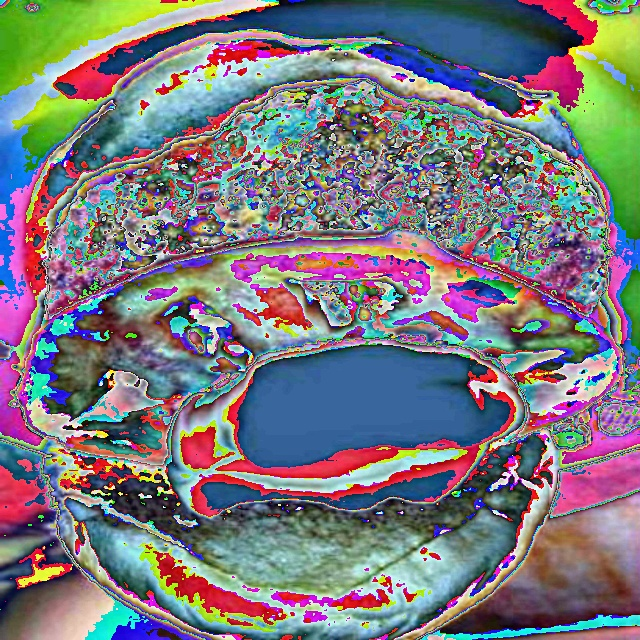background: (15, 37, 627, 639)
